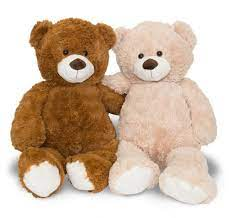teddy: (103, 16, 226, 209), (10, 12, 130, 197)
